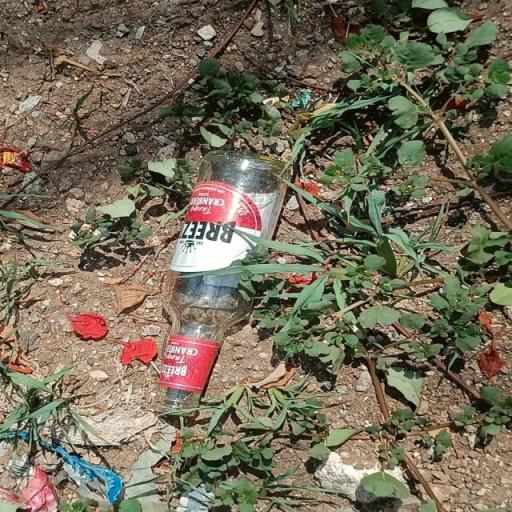glass: (150, 154, 293, 412)
